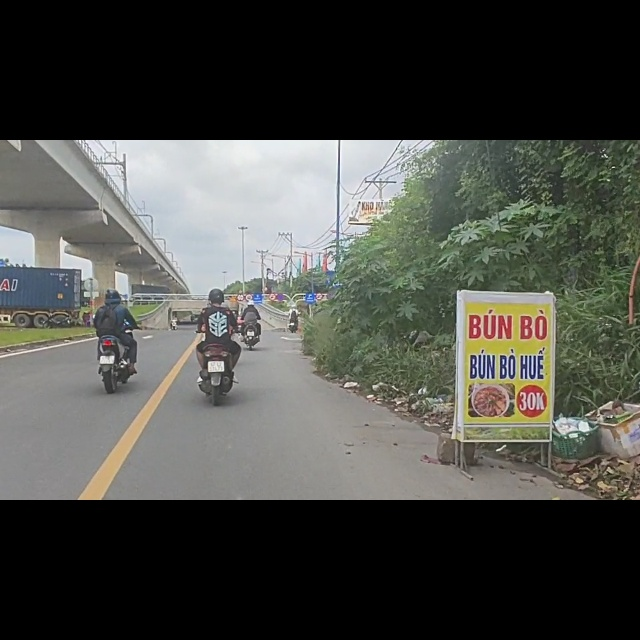bien_chi_dan: (237, 273, 245, 287), (269, 271, 276, 286), (245, 274, 253, 287), (277, 273, 285, 286), (315, 271, 323, 284)
